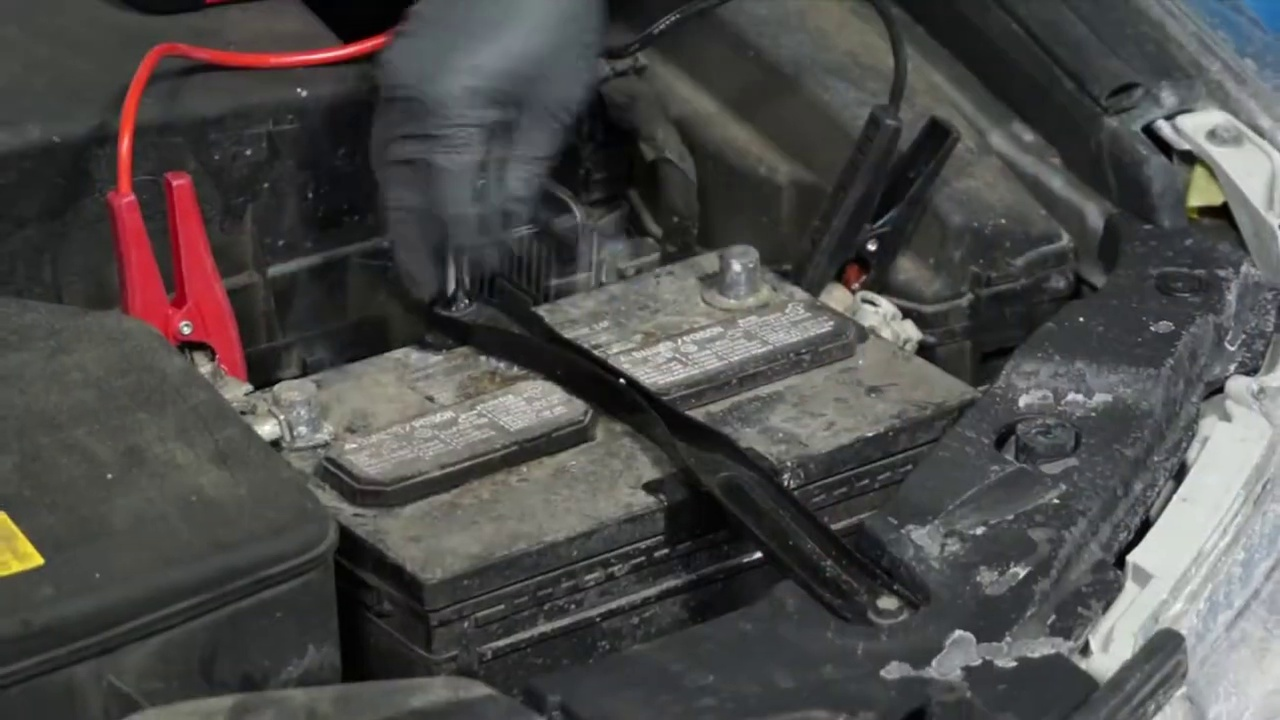battery: (173, 235, 979, 567)
neg_disconnected: (684, 206, 791, 334)
pos_disconnected: (119, 206, 334, 457)
